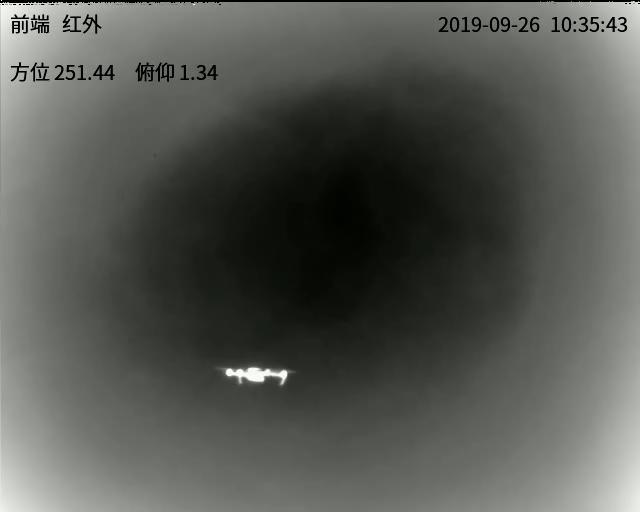uav: (222, 363, 292, 387)
